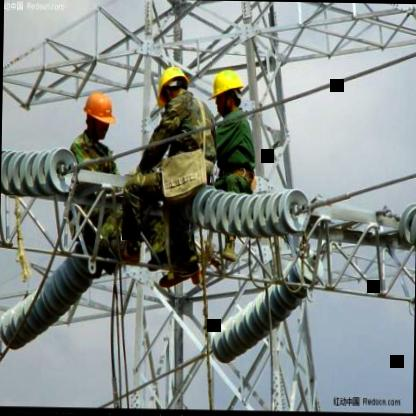helmet: (210, 66, 245, 118), (81, 88, 115, 139), (156, 64, 192, 108)
